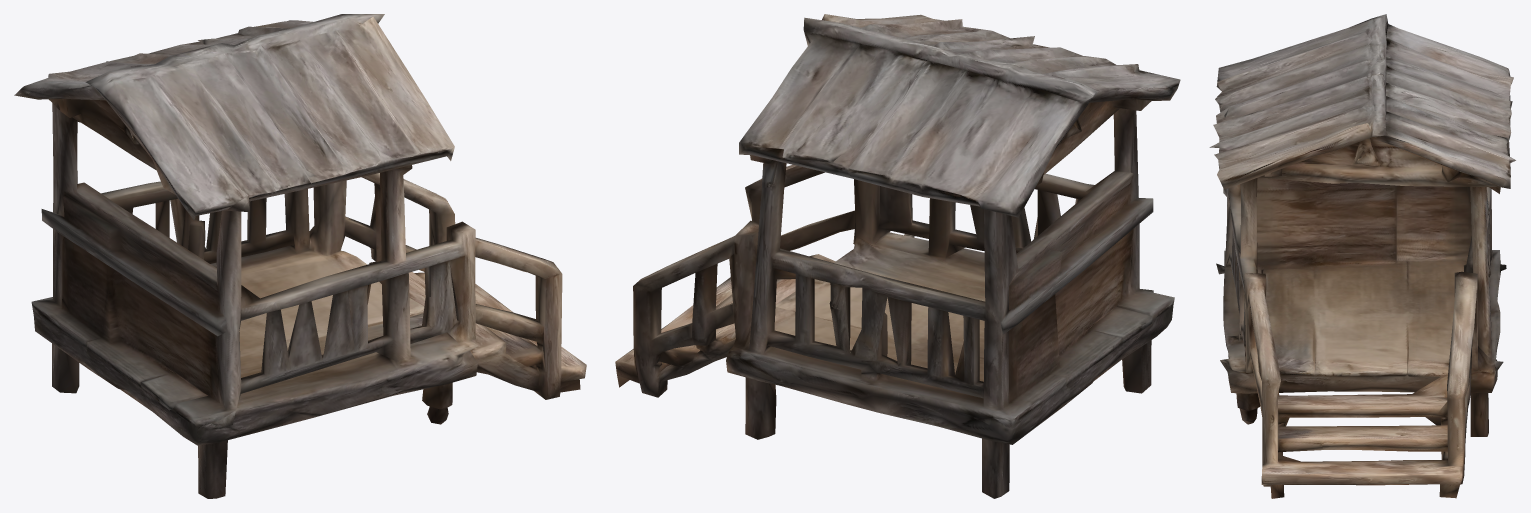
Rendered from kh_porch.glb.
3 renders of one model, left to right at view 1: azimuth 30°, elevation 25°; view 2: azimuth 150°, elevation 25°; view 3: azimuth 270°, elevation 25°, orthographic. The views are drawn at different scales.
Visible parts, largest first — view 1: tripo_node_80988bfb-a7dc-4ff9-b1f5-a04f8789427f; view 2: tripo_node_80988bfb-a7dc-4ff9-b1f5-a04f8789427f; view 3: tripo_node_80988bfb-a7dc-4ff9-b1f5-a04f8789427f.
Part boxes in pixels (x1,y1,x2,y2): tripo_node_80988bfb-a7dc-4ff9-b1f5-a04f8789427f: (14, 14, 586, 498); tripo_node_80988bfb-a7dc-4ff9-b1f5-a04f8789427f: (615, 14, 1180, 498); tripo_node_80988bfb-a7dc-4ff9-b1f5-a04f8789427f: (1209, 14, 1515, 498).
Size of the model in its own units: 1 by 0.8216 by 0.7288.
Materials: 1 (1 with a texture image).
